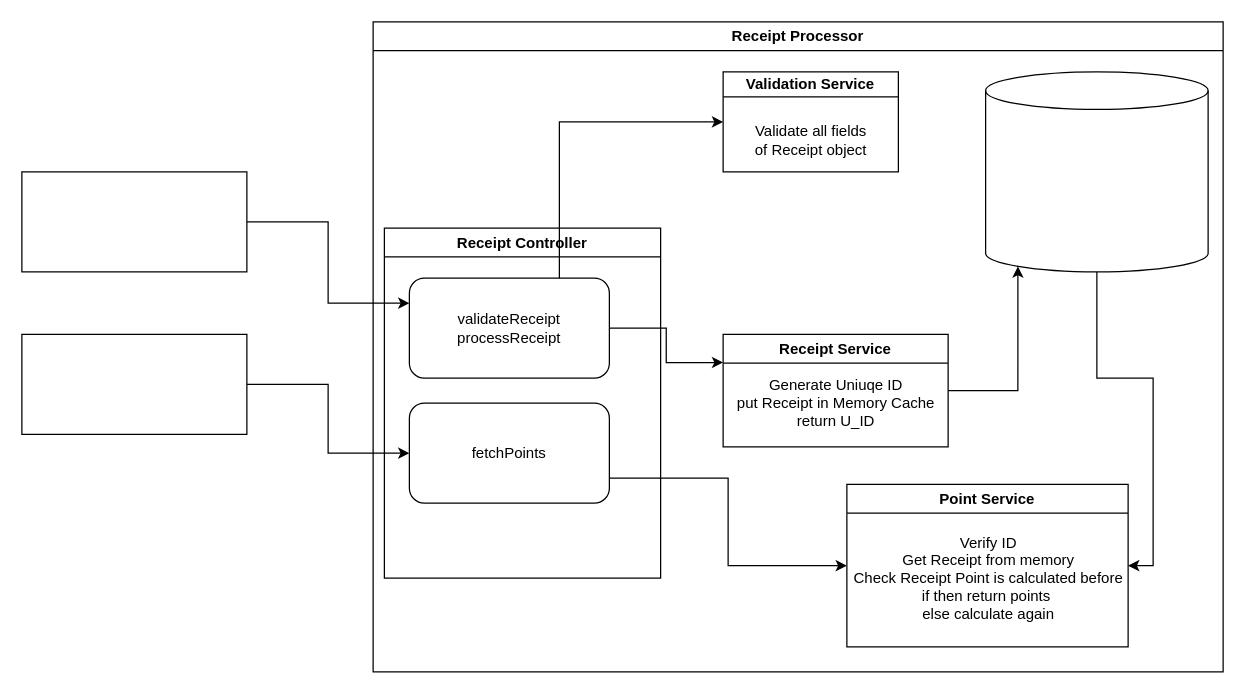
Some shapes in this 1245 by 694 pixel diagram are drawn without their labels. The centre of each missing label's shape, as x and y in pixels:
GET /receipts/{id}/points: [134,383]
Memory Cache { key: unique id value: Receipt }: [1096,171]
POST /receipts/process: [134,221]
